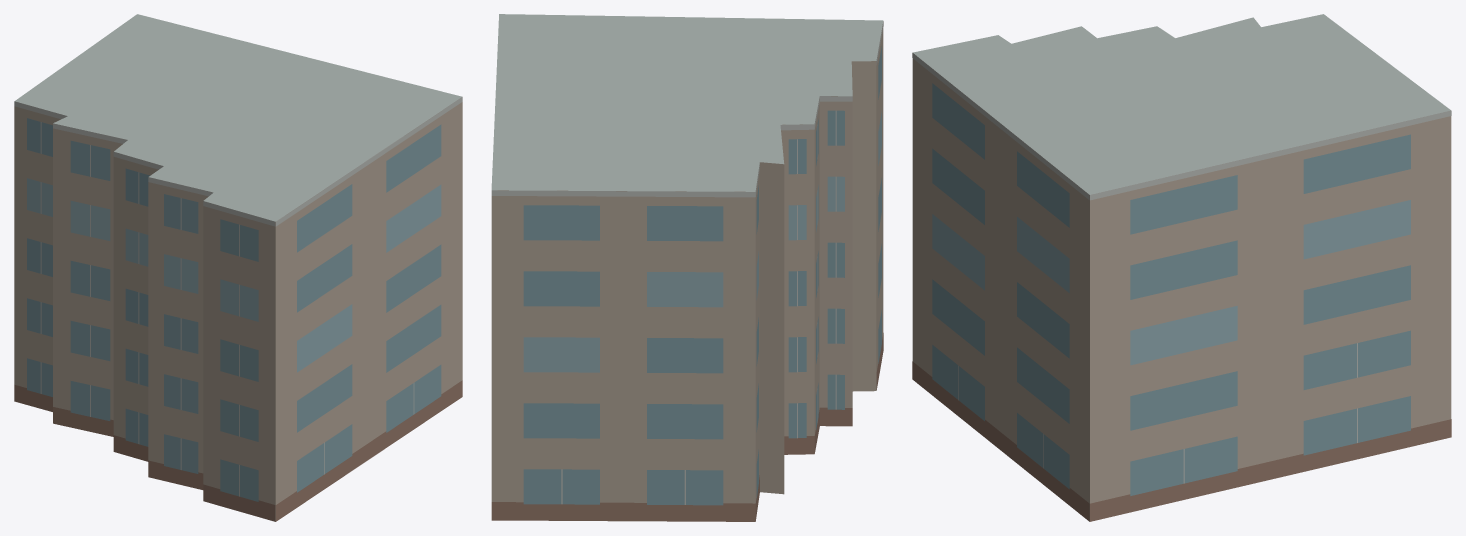
File: survey-upis-32676758.glb
3 renders of one model, left to right at view 1: azimuth 30°, elevation 25°; view 2: azimuth 150°, elevation 25°; view 3: azimuth 270°, elevation 25°, orthographic. The views are drawn at different scales.
Visible parts, largest first — view 1: survey-upis-32676758.tmp; view 2: survey-upis-32676758.tmp; view 3: survey-upis-32676758.tmp.
Boxes of the visible parts, x1,y1,x2,y2 form: survey-upis-32676758.tmp: (14, 14, 462, 521); survey-upis-32676758.tmp: (491, 14, 883, 521); survey-upis-32676758.tmp: (912, 14, 1451, 521).
Bounding box in the file's own units: 17.29 × 14.55 × 21.75.
